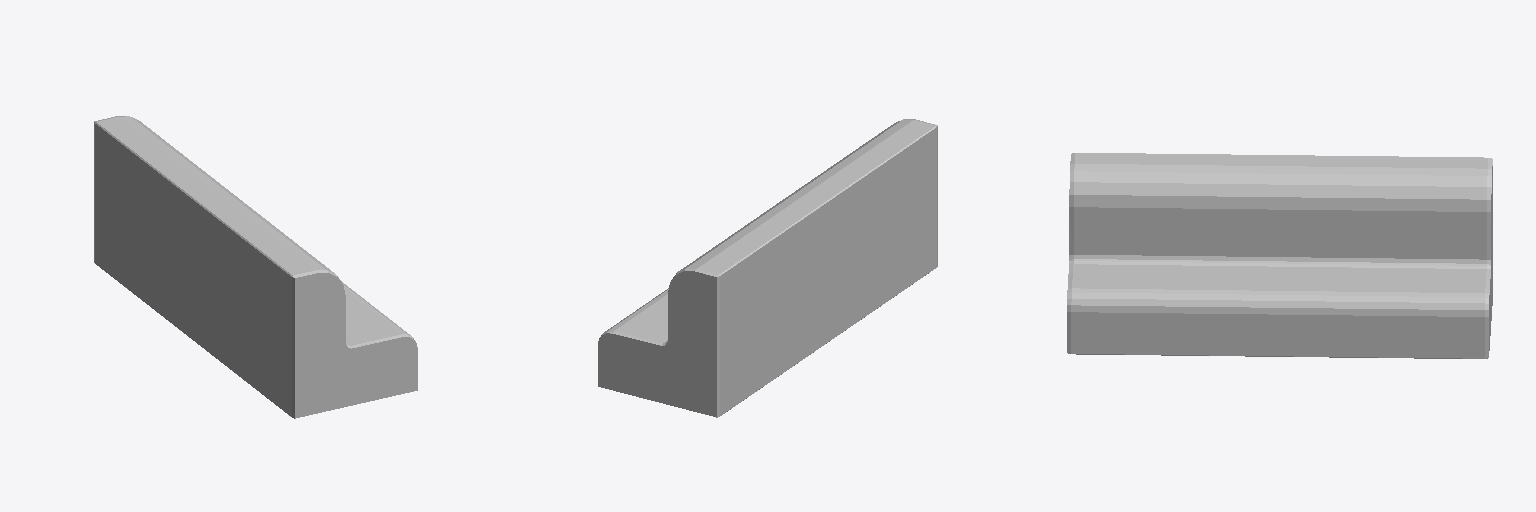
The model's file is seat_2.obj.
The picture shows the model from 3 angles: view 1: azimuth 30°, elevation 25°; view 2: azimuth 150°, elevation 25°; view 3: azimuth 270°, elevation 25°; orthographic projection.
Visible parts, largest first — view 1: Cadeira1.001_Cube.000; view 2: Cadeira1.001_Cube.000; view 3: Cadeira1.001_Cube.000.
Boxes of the visible parts, x1=… form: Cadeira1.001_Cube.000: x1=94, y1=116, x2=417, y2=418; Cadeira1.001_Cube.000: x1=598, y1=119, x2=937, y2=417; Cadeira1.001_Cube.000: x1=1067, y1=153, x2=1492, y2=358.
Size of the model in its own units: 1.18 by 1.2 by 3.26.